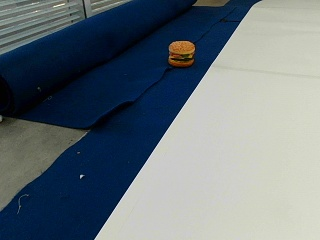burger: (168, 39, 195, 65)
